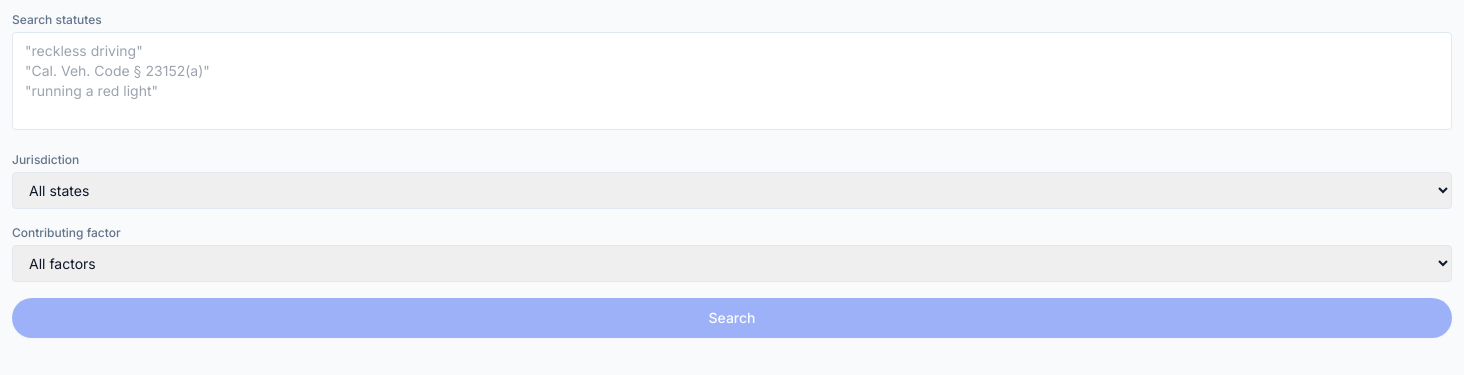
SearchPanel › shows citation hint when query matches citation pattern
The width and height of the screenshot is (1464, 375).
Type "23152(a)" into the text box at (732, 81), box [12,32,1452,130]
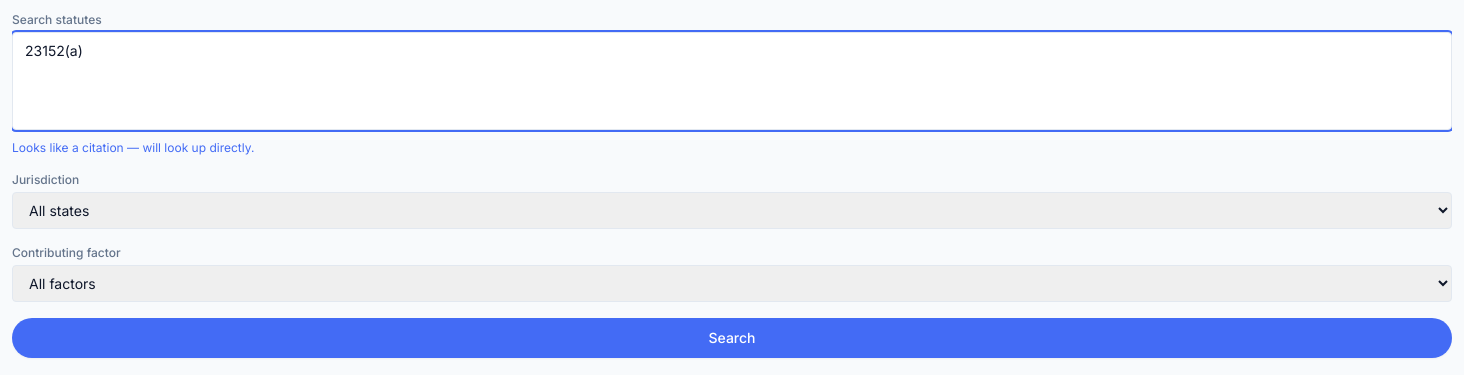
Expected: the text "Looks like a citation — will look up directly." is shown, [12,140,254,155]
